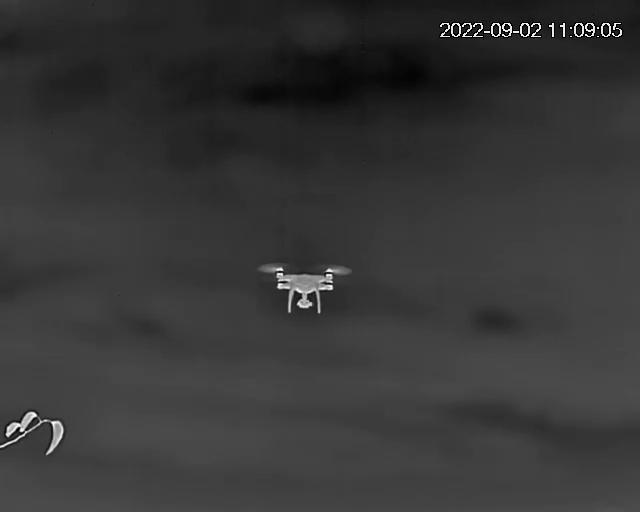DJI-Phantom: (262, 262, 349, 317)
